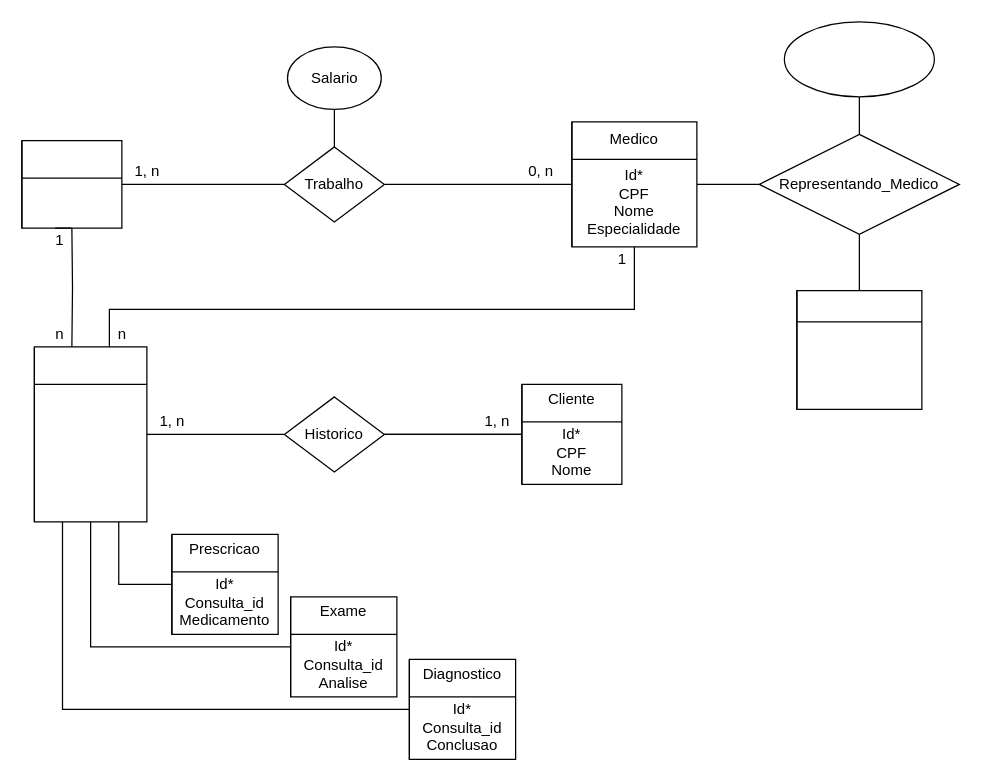
The diagram is 981 pixels wide and 781 high, and some of its shapes have lost their labels. Here are the shapes that lost their labels. From the top down, the centre of each, then its label:
At pixel 858 59: "Data Hora Medicamento".
At pixel 71 183: "Clinica Id* Nome".
At pixel 859 349: "Representante Id* CPF Nome Empresa".
At pixel 90 434: "Consultas Id* Data Horario Clinica_id Medico_id Cliente_id Observacoes".
